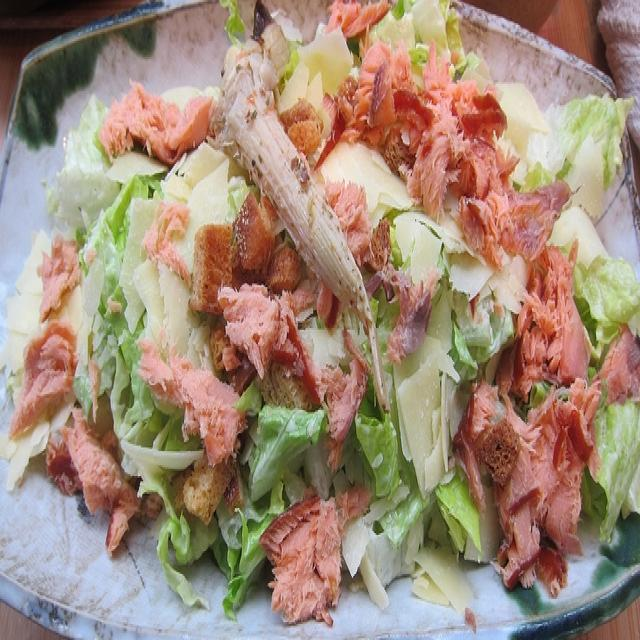蔬菜料理: (26, 14, 630, 619)
